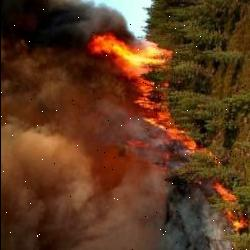fire: (78, 22, 190, 147), (215, 178, 248, 231)
